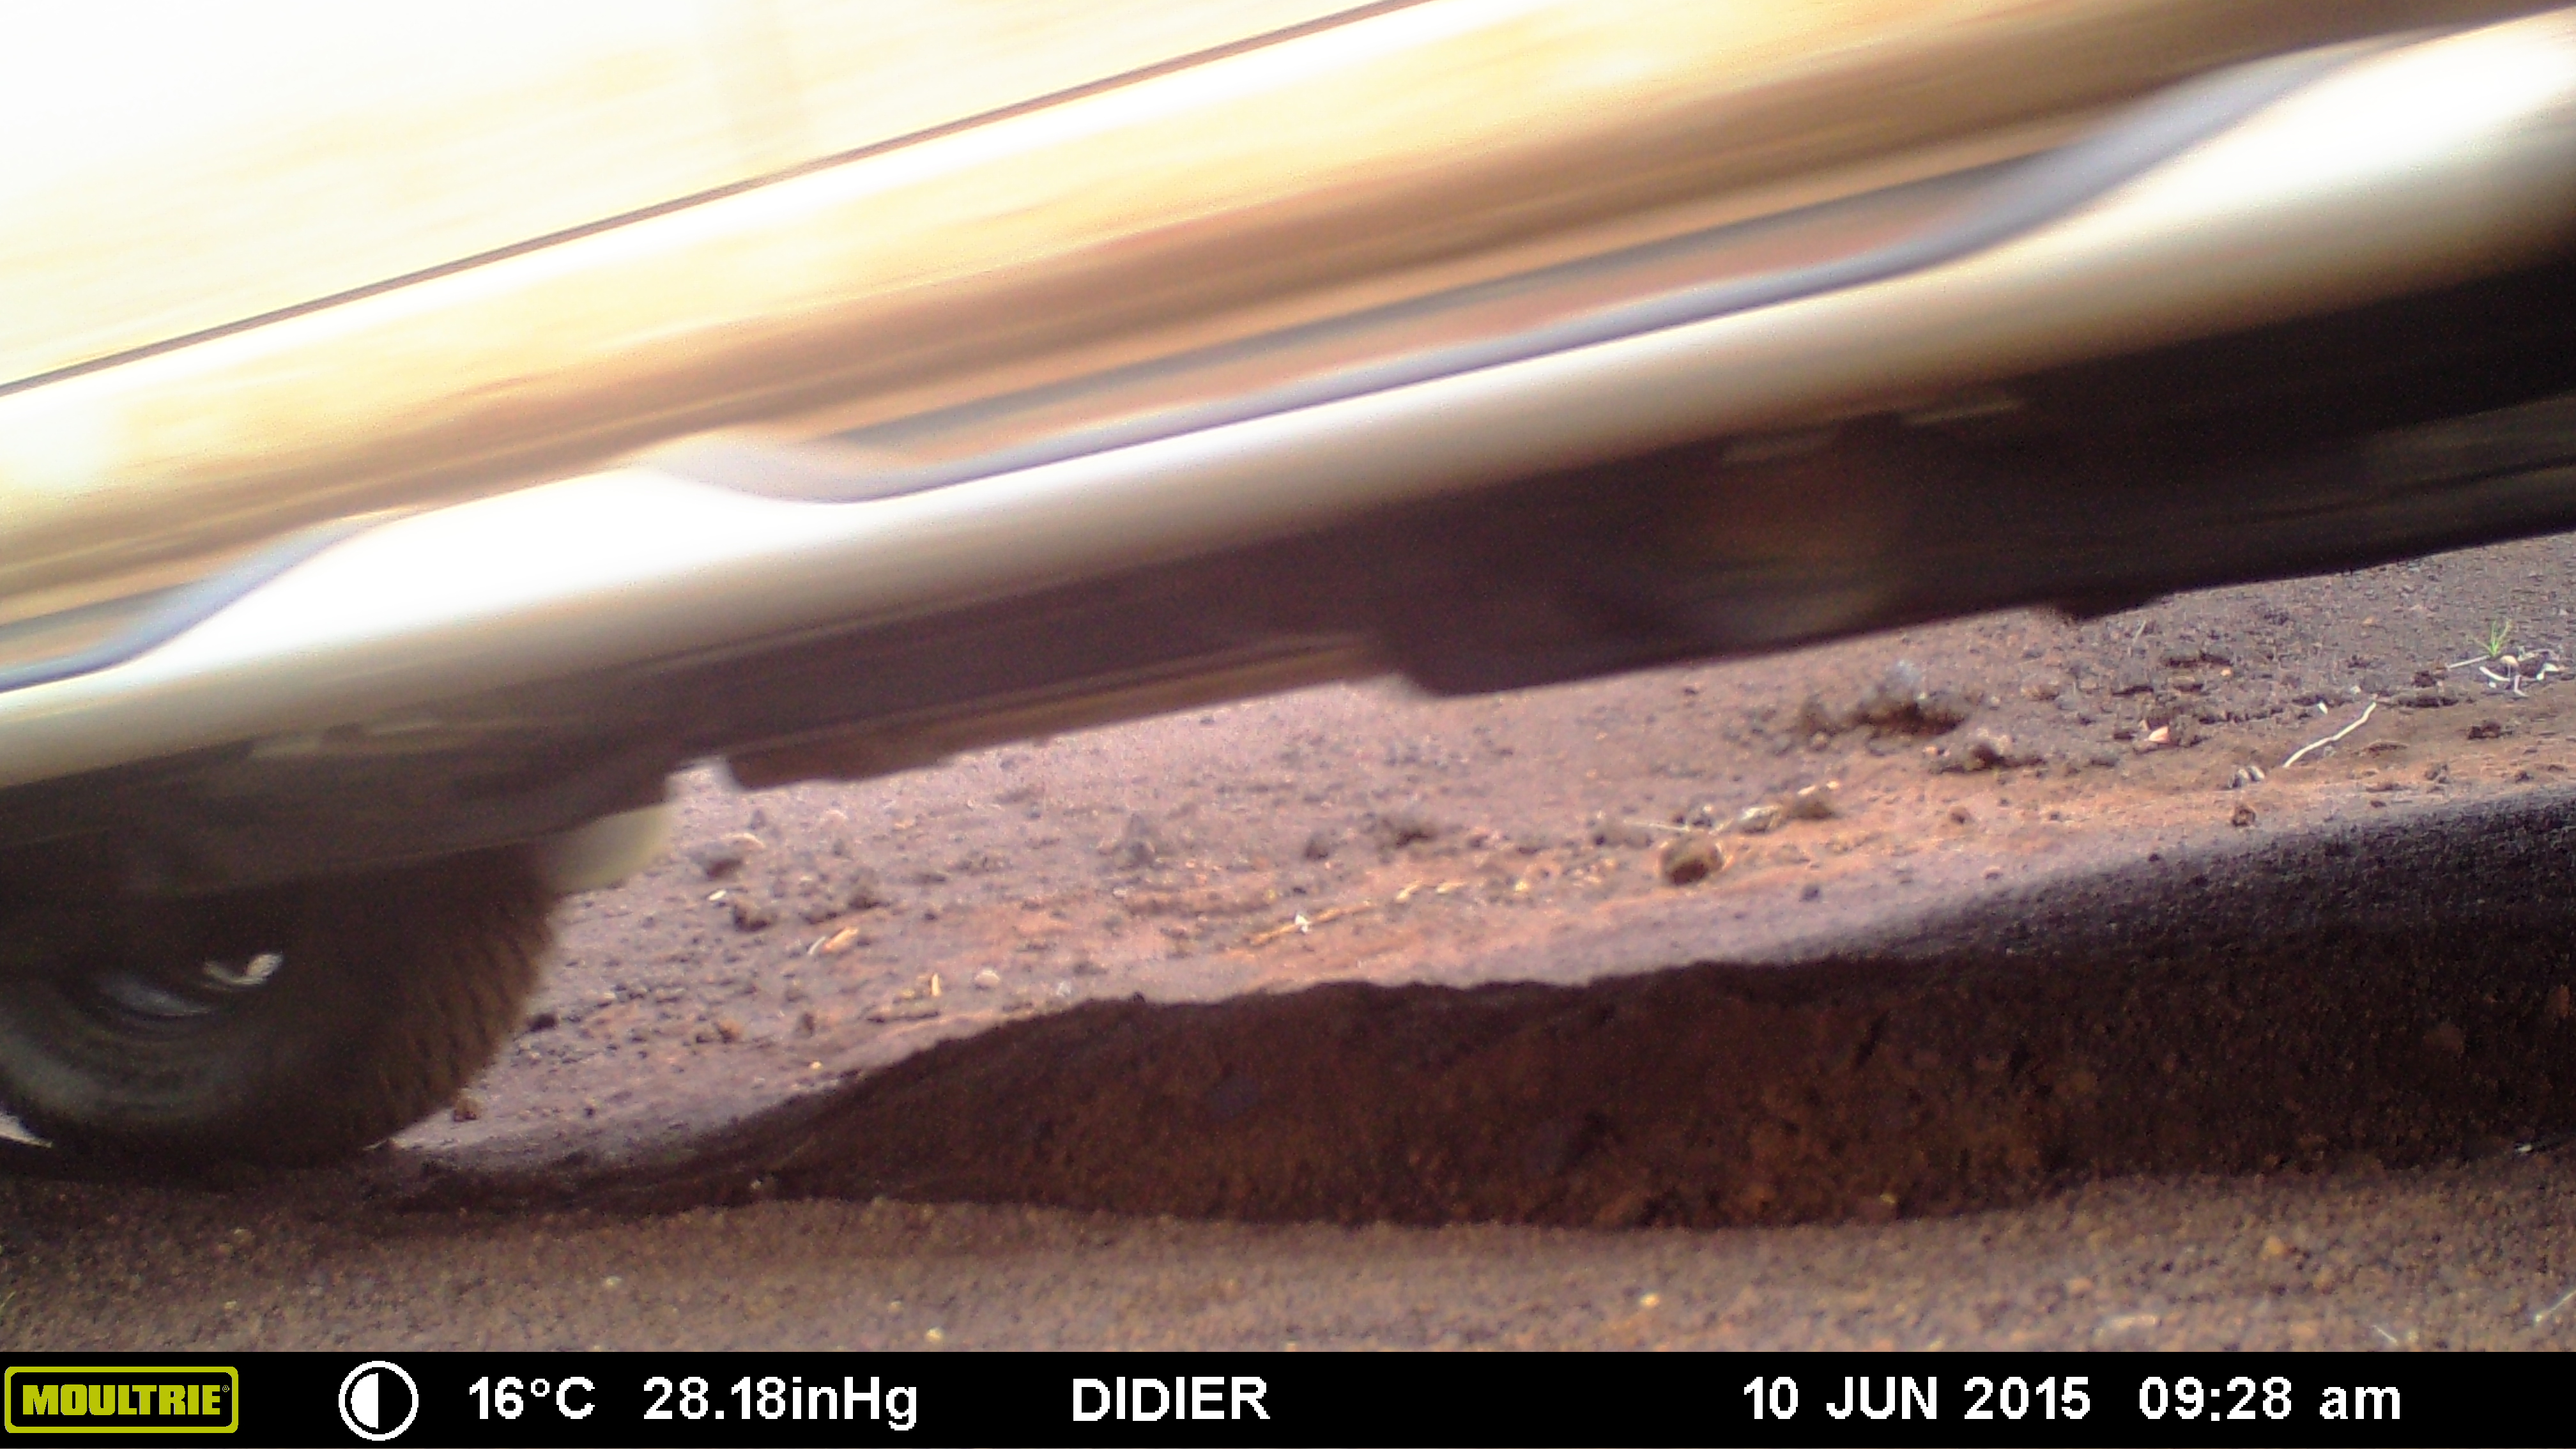Car: (2, 2, 2569, 1168)
